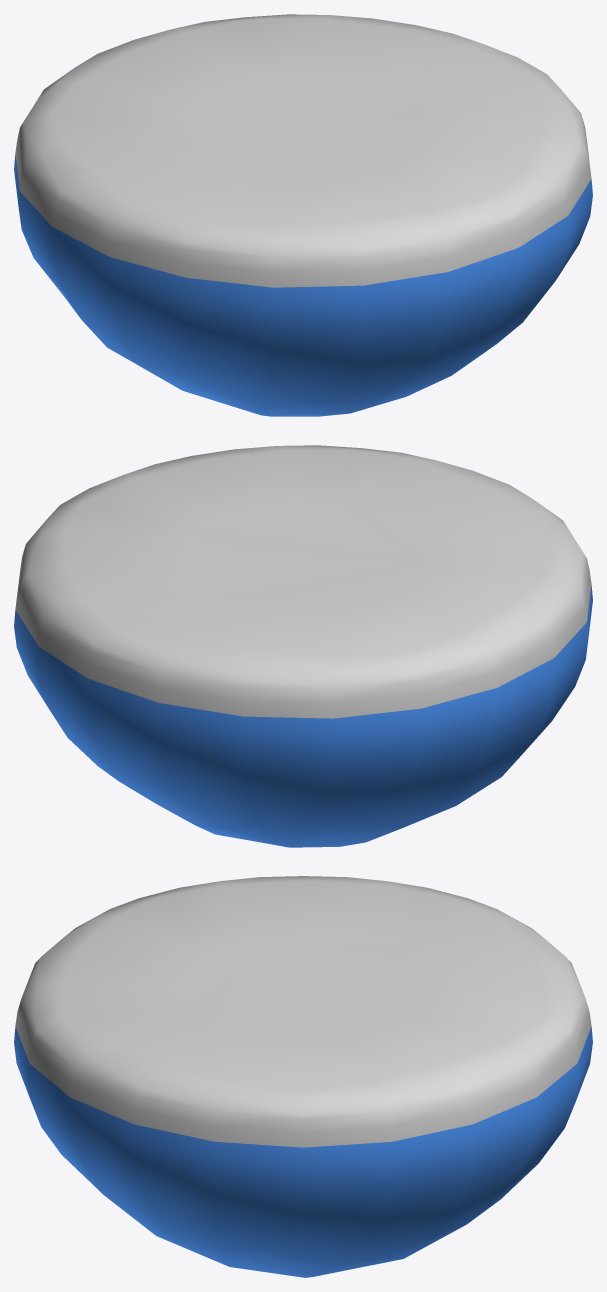
Rendered from Lab_Island.fbx.
3 views of the same model, one above another, from view 1: azimuth 30°, elevation 25°; view 2: azimuth 150°, elevation 25°; view 3: azimuth 270°, elevation 25° (orthographic).
Visible parts, largest first — view 1: Lab_Island; view 2: Lab_Island; view 3: Lab_Island.
Boxes of the visible parts, left/top/right/bottom form: Lab_Island: left=14, top=14, right=592, bottom=416; Lab_Island: left=14, top=445, right=592, bottom=847; Lab_Island: left=14, top=876, right=592, bottom=1277.
Size of the model in its own units: 26.15 by 13.56 by 26.16.
